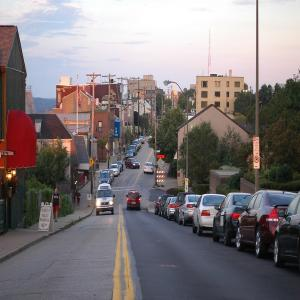Vehicle-registration-plate: (133, 202, 136, 206), (133, 202, 136, 204)
